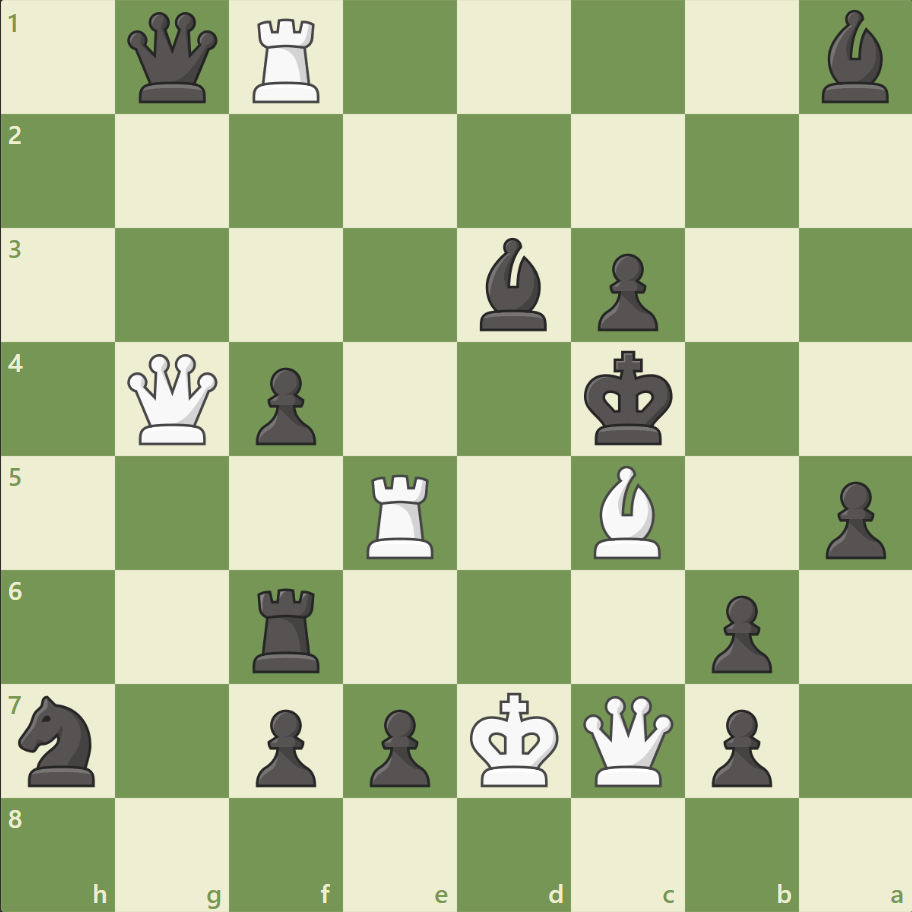B: (585, 460, 669, 563)
K: (465, 685, 565, 793)
Q: (124, 349, 223, 449), (578, 690, 677, 789)
R: (246, 12, 329, 109), (360, 466, 442, 563)
b: (471, 233, 555, 336), (812, 6, 896, 109)
k: (579, 344, 679, 452)
n: (11, 688, 108, 791)
p: (701, 700, 776, 791), (247, 700, 322, 791), (701, 586, 776, 677), (247, 359, 322, 450), (361, 700, 435, 791), (815, 473, 889, 564), (588, 246, 662, 337)
q: (124, 9, 223, 108)
r: (246, 579, 329, 676)
